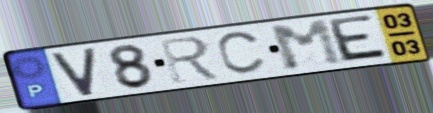8: (107, 43, 157, 90)
C: (214, 29, 268, 77)
E: (327, 13, 393, 65)
M: (266, 17, 349, 73)
R: (156, 34, 225, 85)
V: (48, 45, 98, 99)
